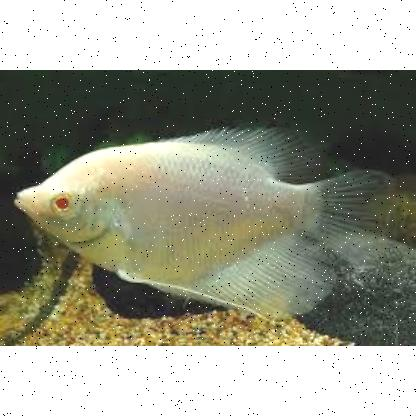gurame: (18, 137, 366, 319)
